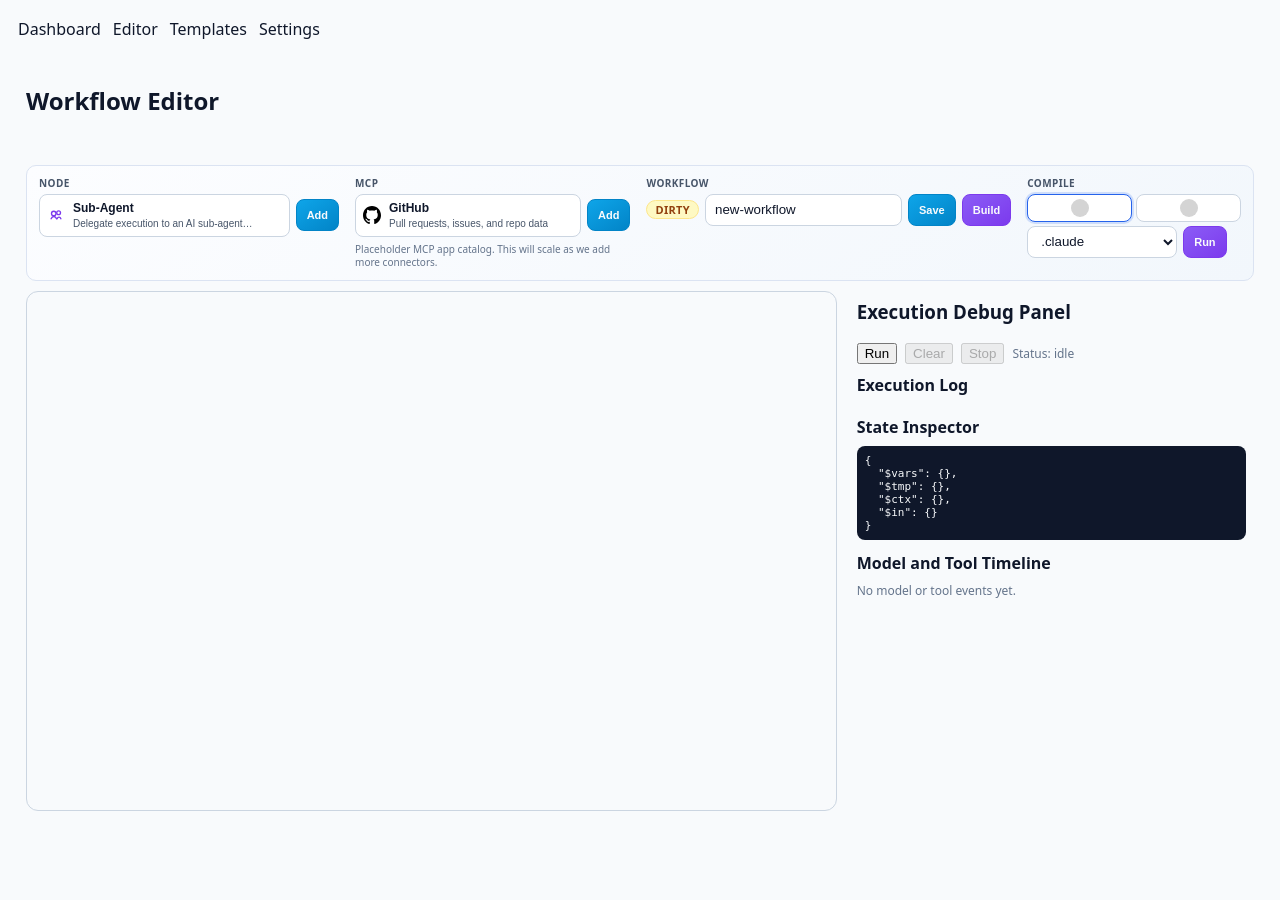
EditorPage persistence controls › shows dirty, saving, and saved persistence badges
expect the text "dirty" is shown: met, box [646,200,699,219]
Click the button with aria-label "save-workflow": click(932, 210) [908,194,956,226]
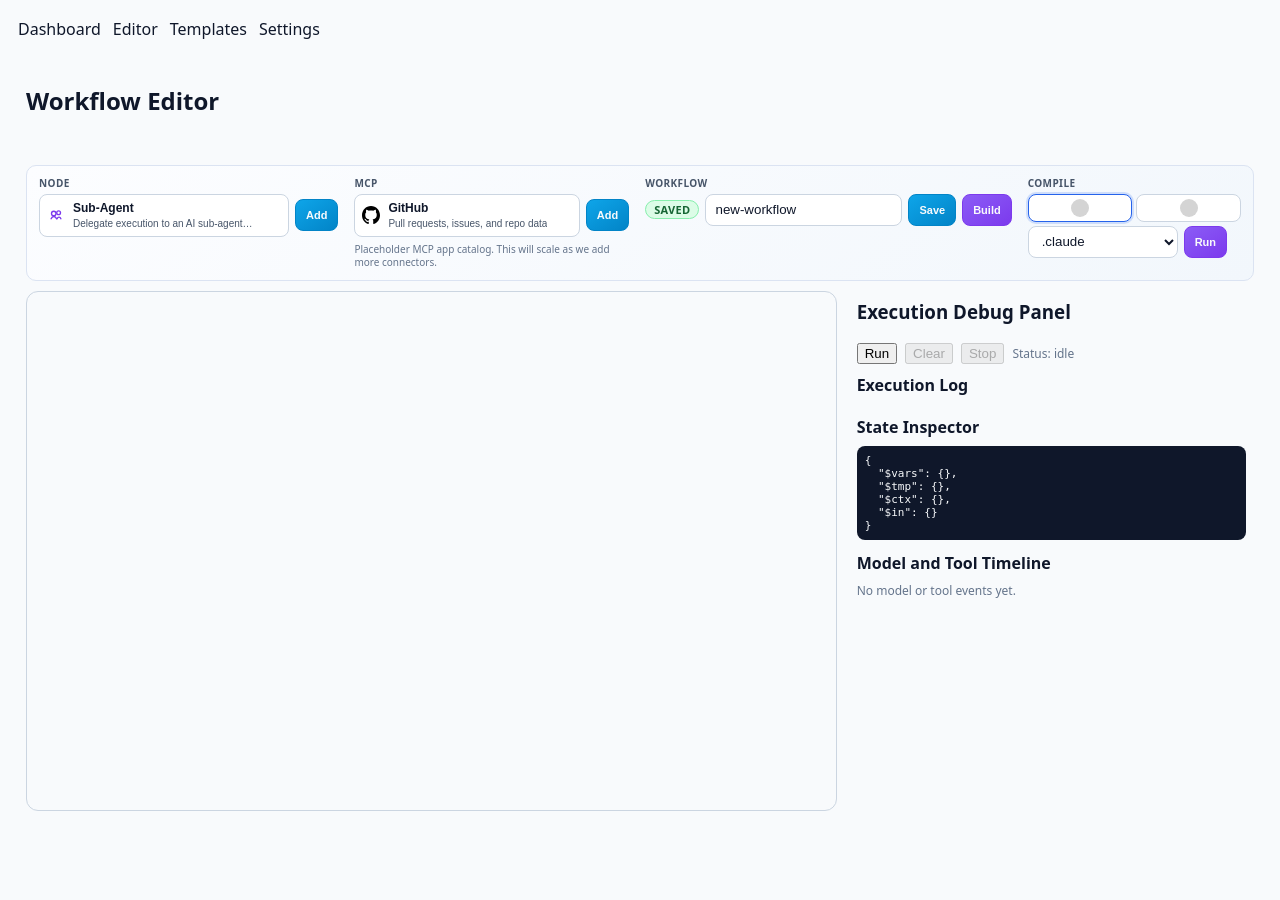
expect the text "saved" is shown: met, box [645,200,700,219]
Replace the text in the field named "workflow-name" with "new-workflow-2": (804, 210) [706,194,902,226]
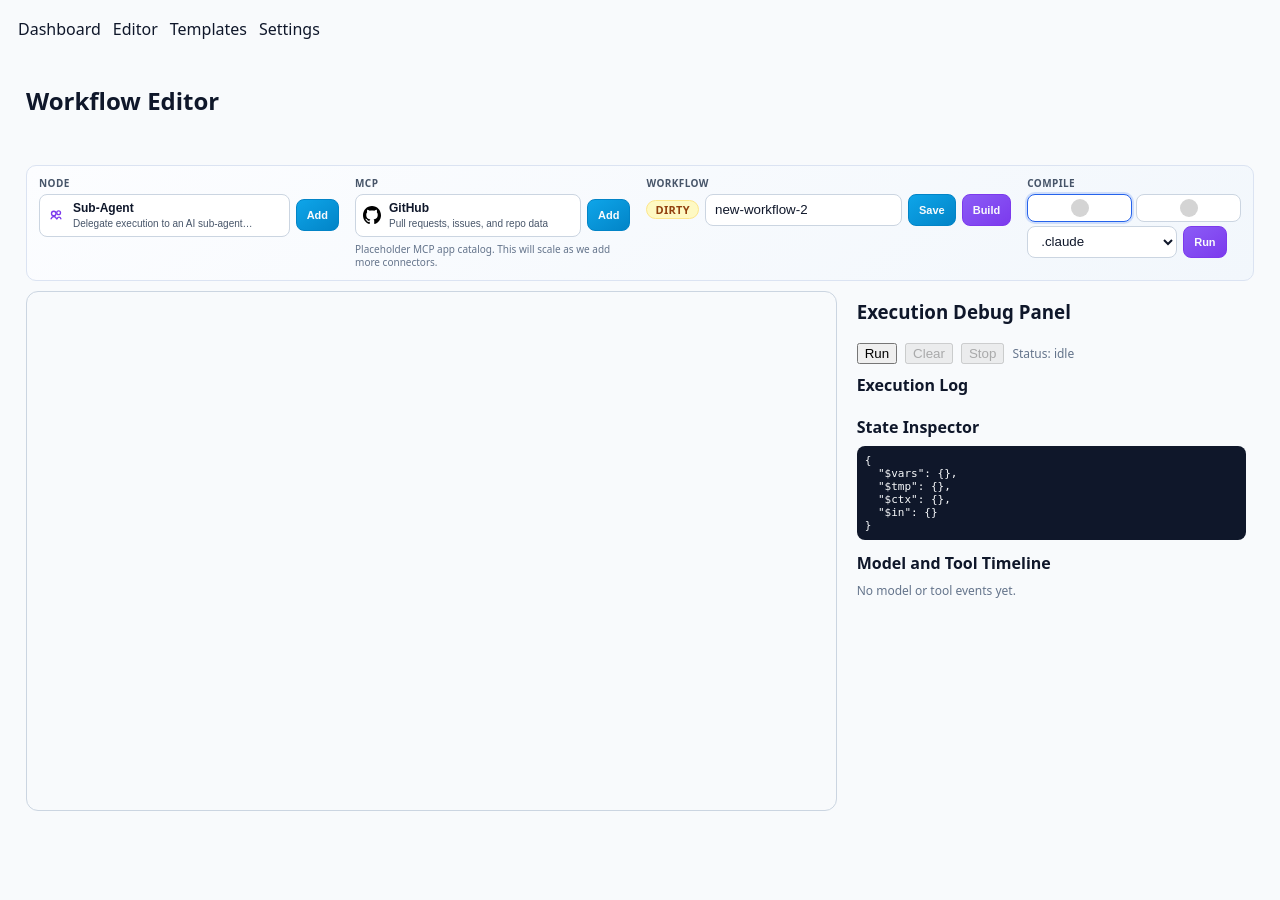
expect the text "dirty" is shown: met, box [646,200,699,219]
